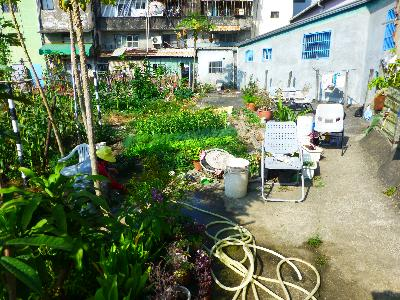bucket: (220, 157, 251, 200)
